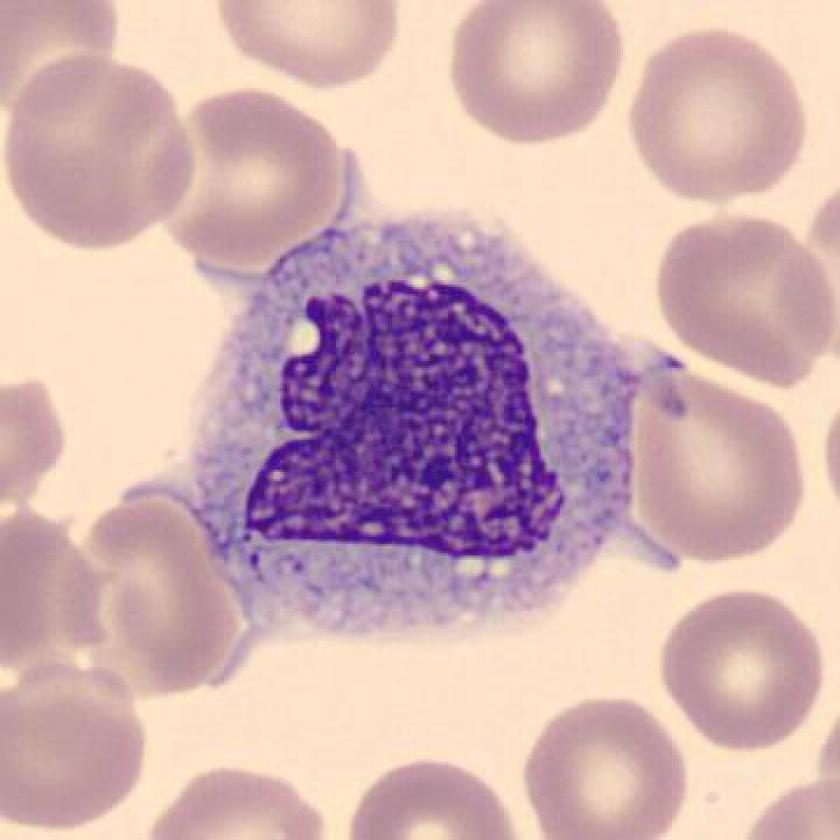monocyte: (132, 177, 675, 649)
